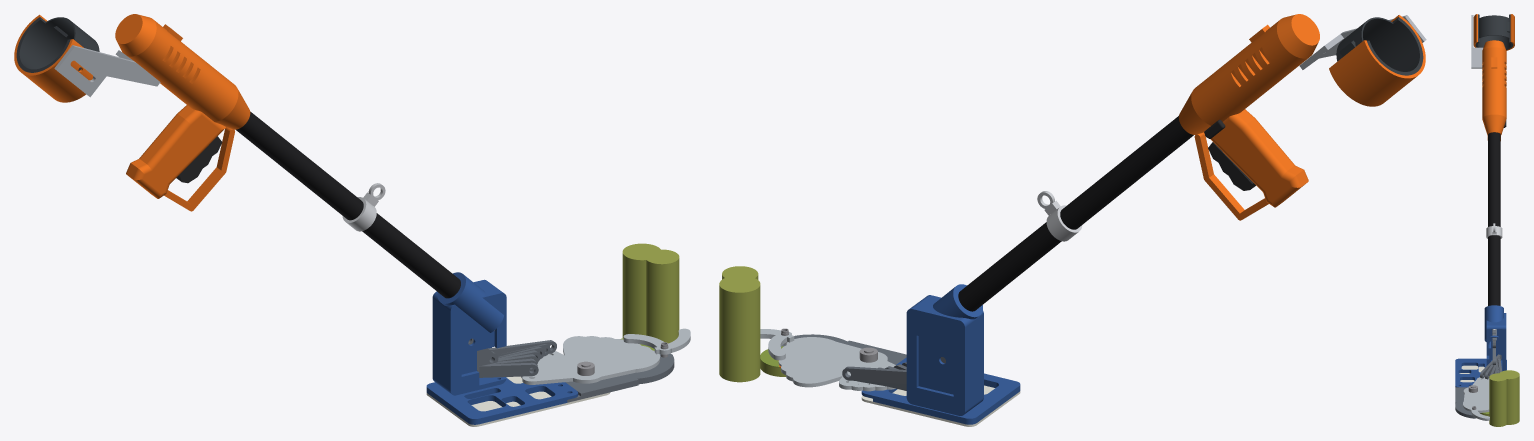
Rendered from tijera.glb.
3 views of the same model, side by side, from view 1: azimuth 30°, elevation 25°; view 2: azimuth 150°, elevation 25°; view 3: azimuth 270°, elevation 25° (orthographic). The views are drawn at different scales.
Visible parts, largest first — view 1: P05, P10, P08, P11, P03, XVECINA2, P15, P13, XVECINA1, P02@0, P14, P01 (+8 smaller); view 2: P05, P10, P08, P11, XVECINA1, P14, P15, P03, P02@0, P02@10, P07@0, P16 (+5 smaller); view 3: P10, P08, P05, P15, XVECINA2, XVECINA1, P03, P13, P02@0, P01, P14, P16 (+8 smaller).
Boxes of the visible parts, x1,y1,x2,y2 form: P05: (432,272,506,395); P10: (115,14,250,129); P08: (236,111,460,298); P11: (126,105,234,211); P03: (426,377,578,424); XVECINA2: (645,249,679,343); P15: (16,17,99,72); P13: (54,45,160,97); XVECINA1: (622,243,661,338); P02@0: (543,349,660,383); P14: (14,14,92,102); P01: (565,353,674,402); P05: (906,284,983,415); P10: (1178,14,1319,134); P08: (958,116,1193,311); P11: (1194,109,1308,220); XVECINA1: (719,275,760,382); P14: (1329,15,1425,106); P15: (1336,17,1423,75); P03: (861,357,1020,424); P02@0: (786,337,887,389); P02@10: (782,341,887,390); P07@0: (842,366,906,383); P16: (1037,191,1082,241); P10: (1482,40,1506,135); P08: (1488,132,1500,305); P05: (1484,305,1506,371); P15: (1475,14,1513,49); XVECINA2: (1489,373,1507,426); XVECINA1: (1498,370,1519,424); P03: (1455,358,1506,387); P13: (1471,15,1483,68); P02@0: (1462,387,1489,411); P01: (1455,387,1475,418); P14: (1473,14,1514,50); P16: (1486,223,1502,238).
Bounding box in the file's own units: 0.971 × 0.6603 × 0.1532.
